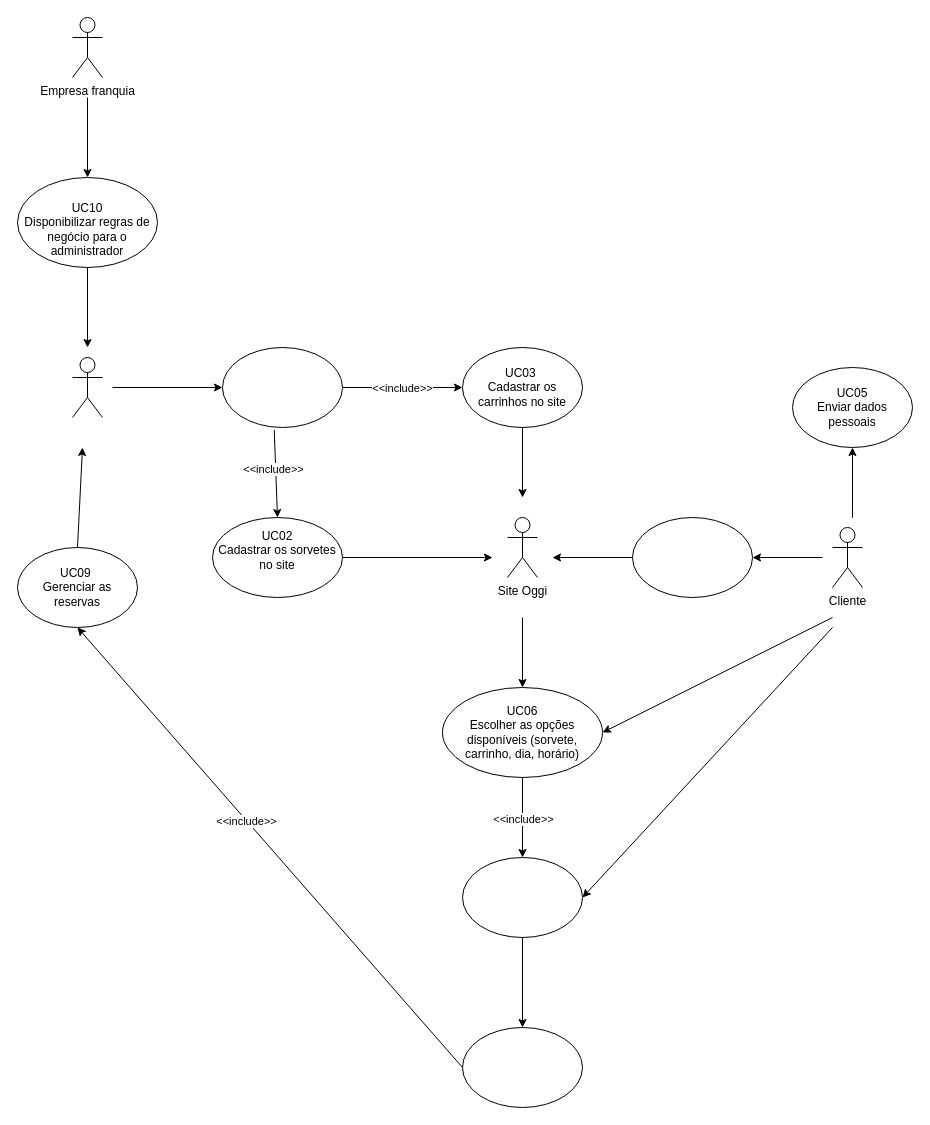
Image size: 930x1125. Some labels were removed from this diagram. Here are the shapes that lost their labels. From the top down, the box of each, then its label:
(72, 356, 102, 418): Administrador
(222, 346, 342, 428): UC01 Manter o sistema
(632, 516, 752, 598): UC04 Visualizar o site
(462, 856, 582, 938): UC07 Realizar pagamento
(462, 1026, 582, 1108): UC08 Realizar a reserva
